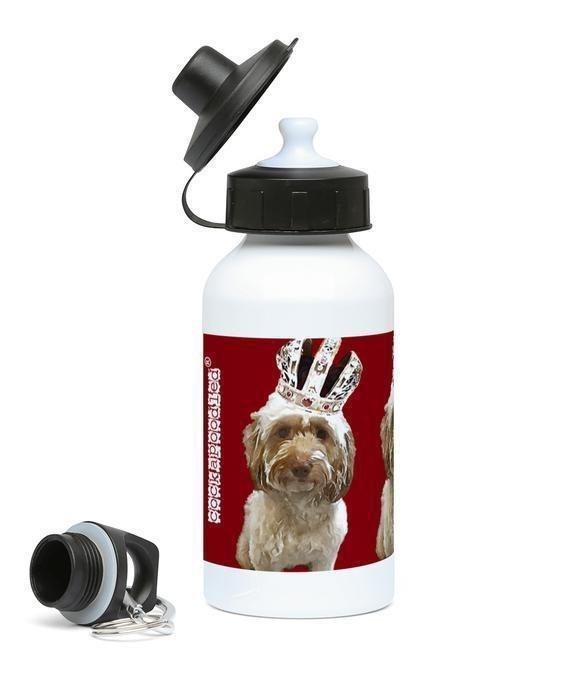gym bottle: (197, 111, 399, 626)
